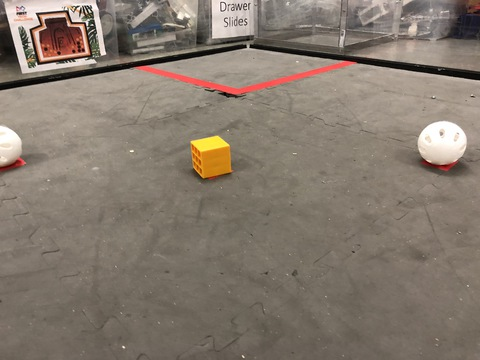ball: (412, 119, 473, 172), (2, 118, 30, 174)
block: (183, 134, 244, 185)
